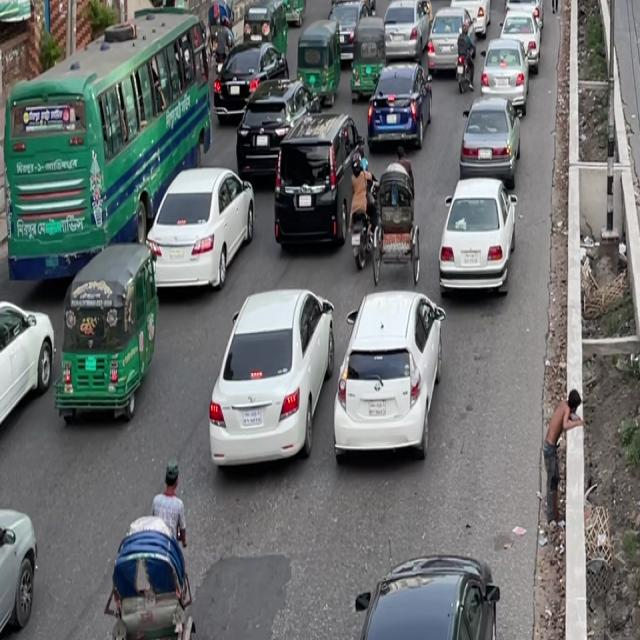car: (193, 272, 344, 484), (322, 274, 450, 477), (134, 147, 260, 311), (347, 524, 507, 636), (268, 107, 366, 266), (430, 168, 522, 311), (0, 280, 64, 458), (0, 455, 48, 640), (233, 73, 302, 189), (363, 54, 433, 160), (456, 87, 523, 191), (210, 44, 286, 128), (480, 36, 531, 116), (376, 0, 429, 64), (491, 1, 538, 70), (326, 0, 375, 61), (428, 11, 466, 87), (452, 0, 491, 41), (503, 0, 543, 9)
motorbike: (453, 23, 477, 93)
rickshaw: (41, 240, 163, 435), (292, 18, 342, 108), (349, 17, 387, 102), (427, 0, 456, 8)
